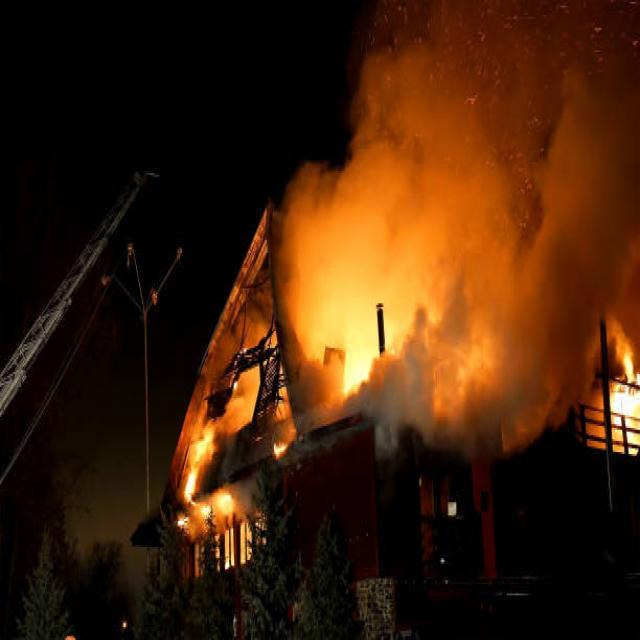Fire: (303, 264, 406, 401), (184, 410, 244, 540)
Smoke: (347, 11, 640, 416), (288, 184, 540, 439)
